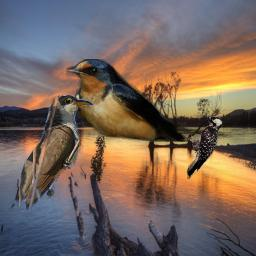Cuckoo: (19, 95, 111, 210)
Swallow: (66, 59, 234, 142)
Woodpecker: (185, 114, 227, 181)
